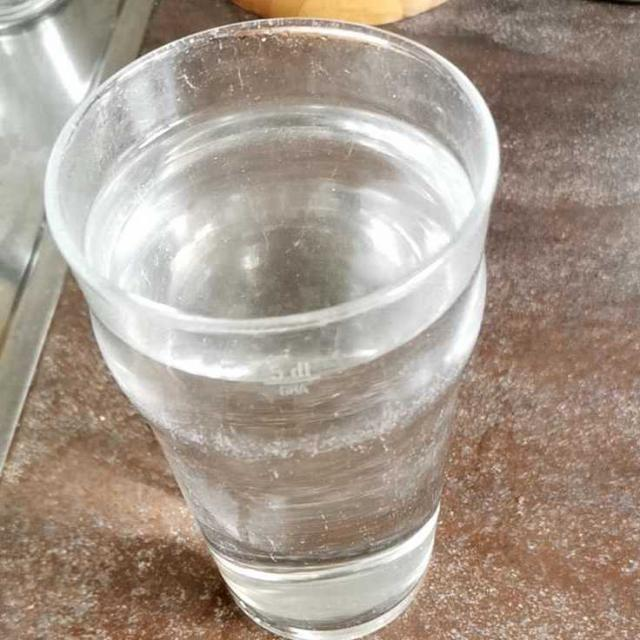water: (73, 82, 487, 578)
